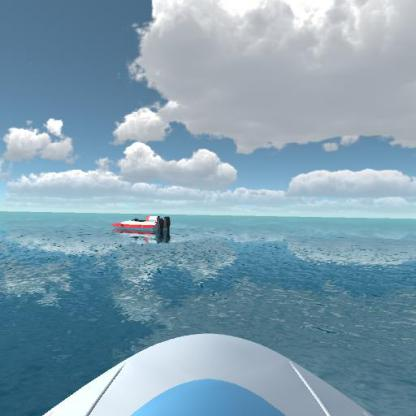usv3: (107, 211, 173, 244)
